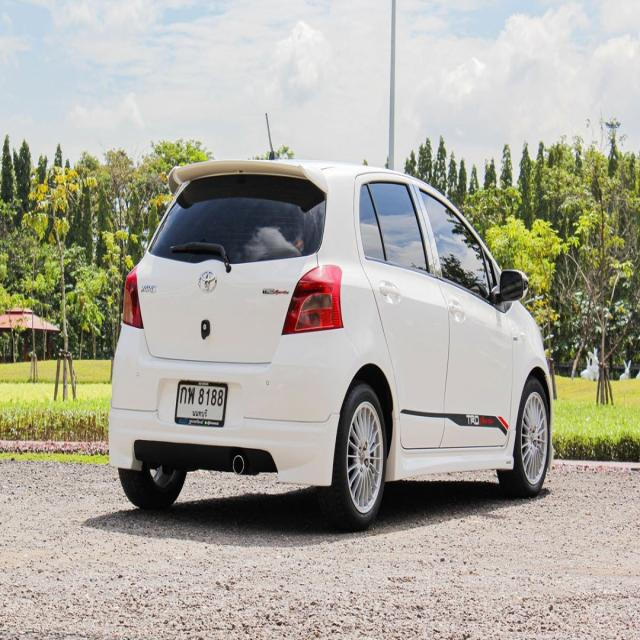license_plate: (165, 374, 236, 438)
